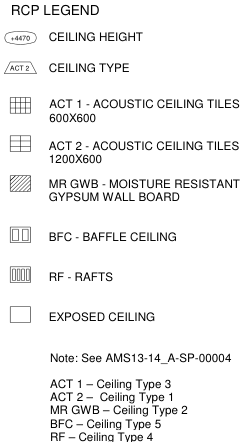hatch: (7, 172, 34, 195), (7, 223, 34, 246), (7, 94, 35, 116), (2, 59, 38, 76), (3, 30, 41, 46), (7, 134, 37, 154), (6, 264, 33, 285), (8, 304, 32, 325)
label: (45, 96, 241, 126), (45, 138, 240, 167), (46, 177, 241, 203), (45, 307, 157, 328), (46, 229, 180, 245), (47, 29, 145, 45), (44, 61, 134, 76), (45, 269, 122, 284)
